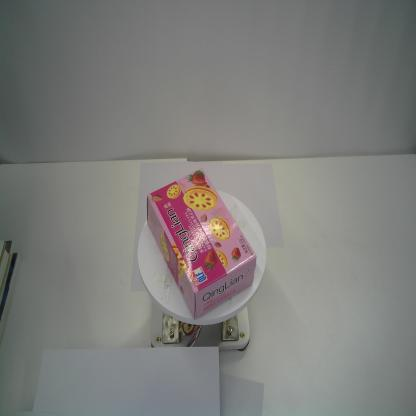Dessert: (145, 166, 257, 322)
